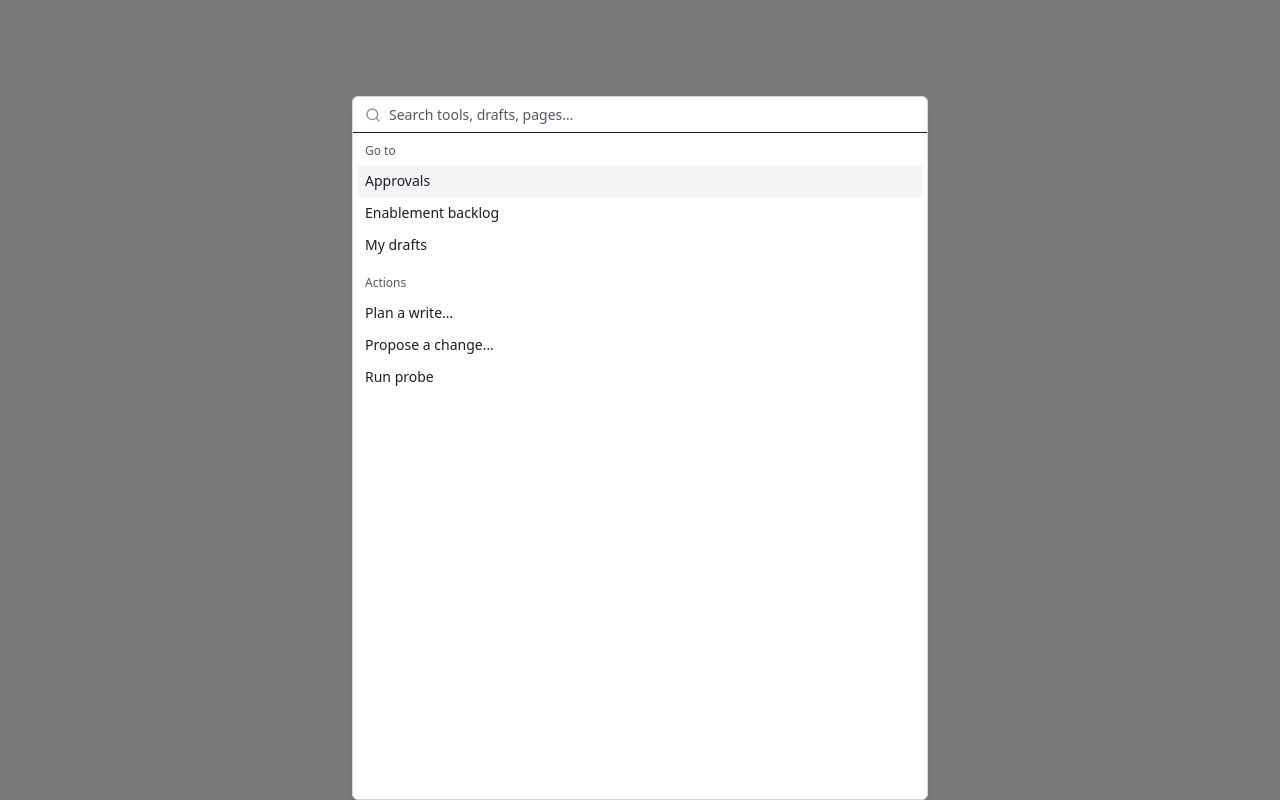
CommandPalette — zero serious/critical axe violations › a no_tool designed result, with the Request this capability action
Type "something odd" into the dropdown with placeholder "Search tools, drafts, pages…" at (652, 114), box [389,94,915,134]
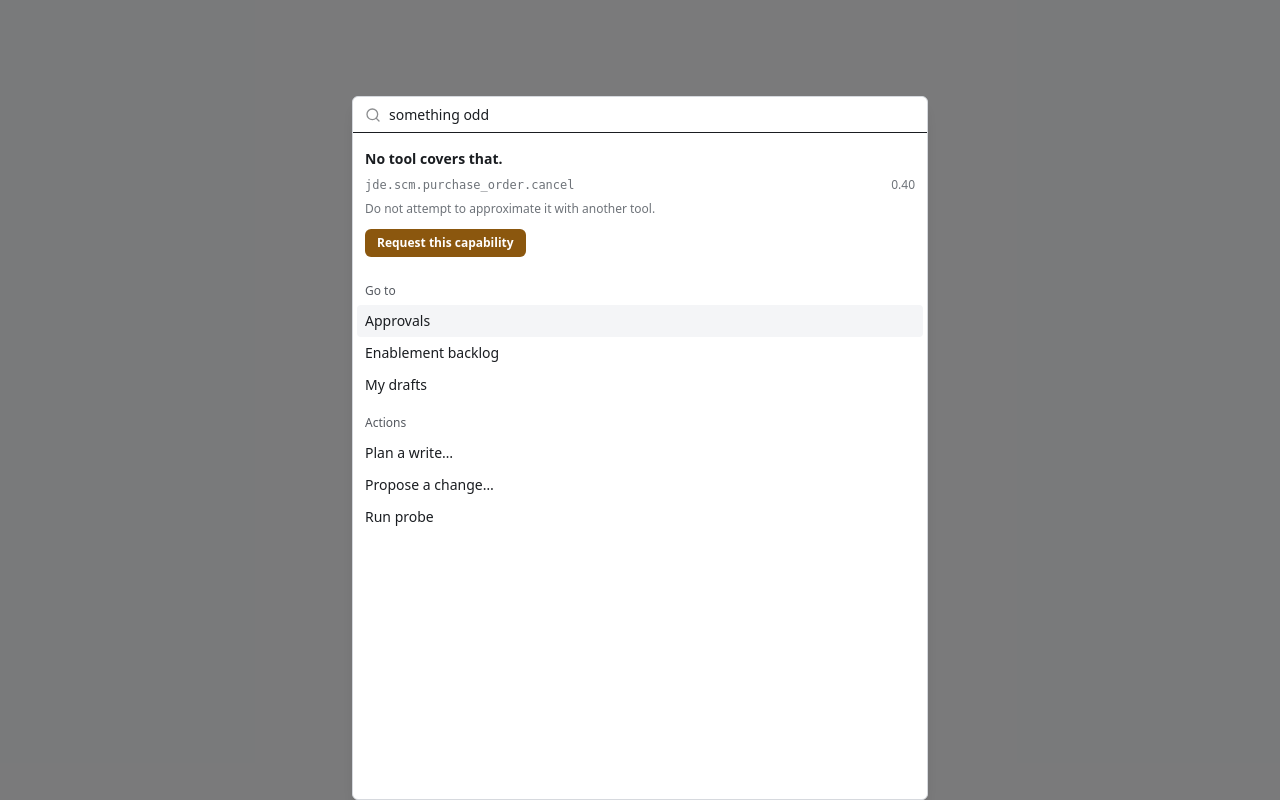
Expected: the text "No tool covers that." is shown, [365,149,503,168]
